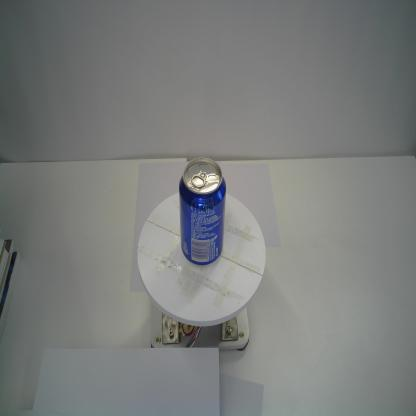Drink: (178, 158, 226, 266)
